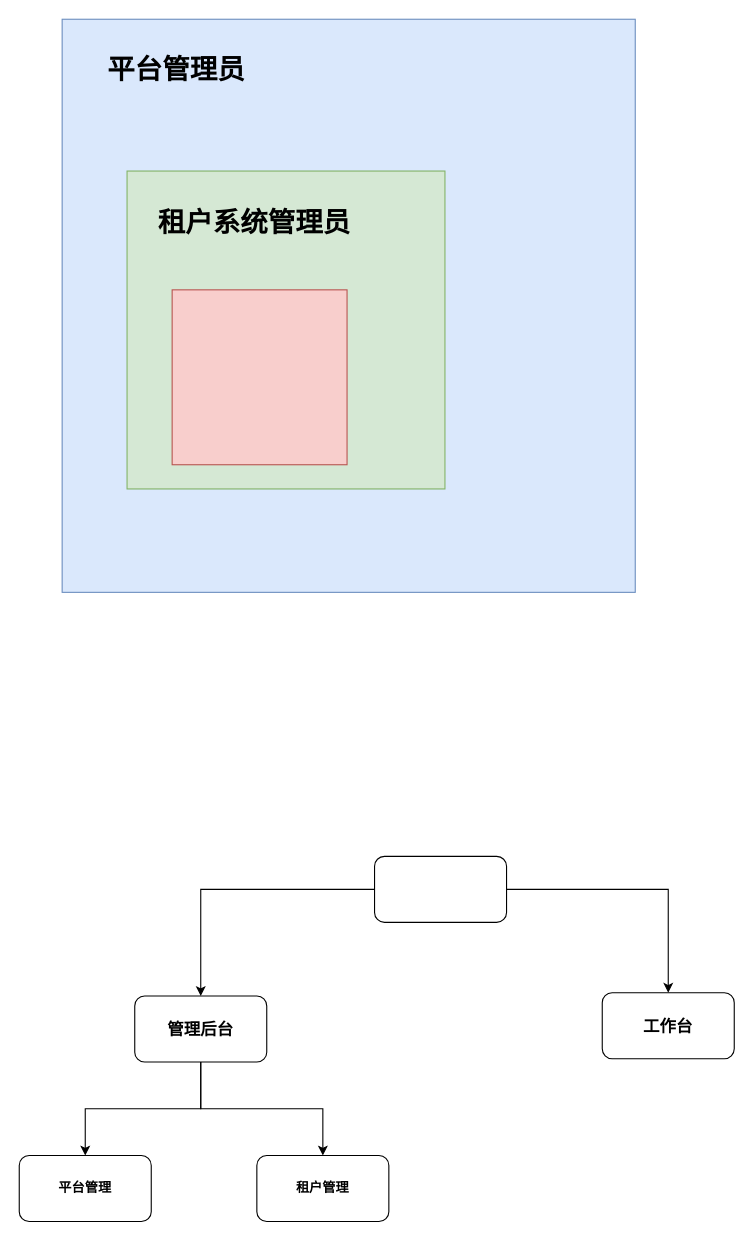
Some shapes in this 754 by 1241 pixel diagram are drawn without their labels. Each missing label, with the box of its shape:
操作界面: (373, 855, 507, 922)
用户: (171, 289, 347, 465)
